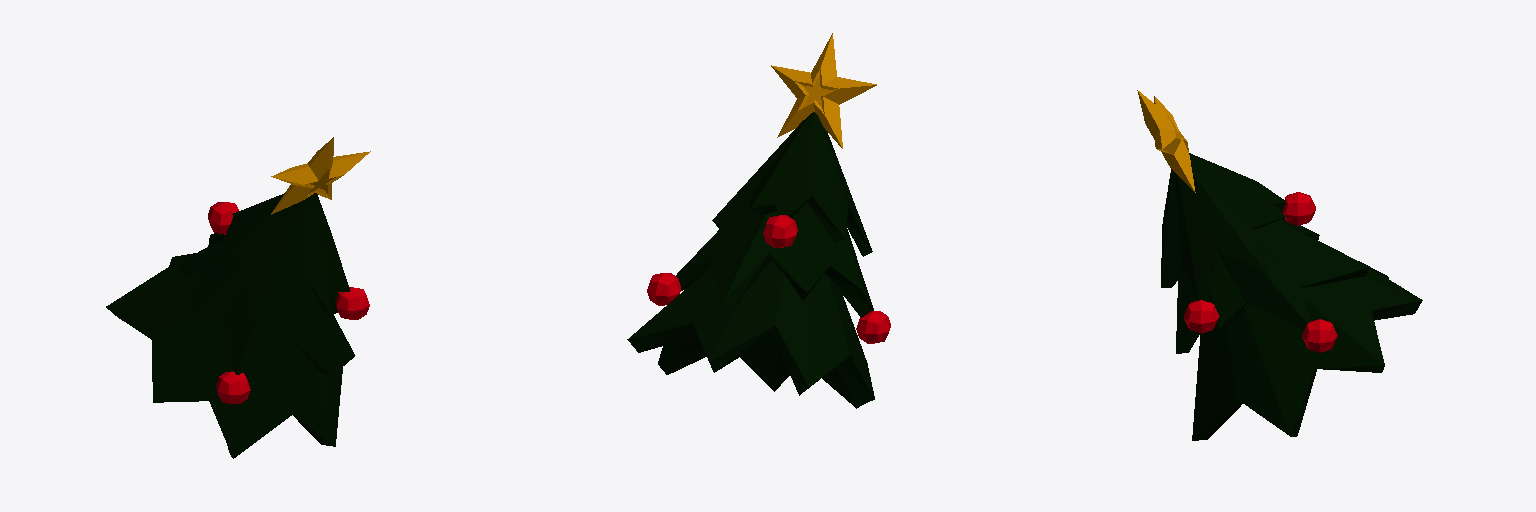
File: tree_christmas_2022.obj
3 renders of one model, left to right at view 1: azimuth 30°, elevation 25°; view 2: azimuth 150°, elevation 25°; view 3: azimuth 270°, elevation 25°, orthographic.
Visible parts, largest first — view 1: 0, 1, 2; view 2: 0, 1, 2; view 3: 0, 2, 1.
Part boxes in pixels (x1,y1,x2,y2): 0: (106,193,354,458); 1: (271,137,370,214); 2: (208,202,369,403); 0: (627,112,874,408); 1: (771,33,876,148); 2: (647,215,890,343); 0: (1161,153,1422,440); 2: (1183,192,1337,352); 1: (1137,90,1195,192).
Size of the model in its own units: 0.5199 by 0.8014 by 0.6117.